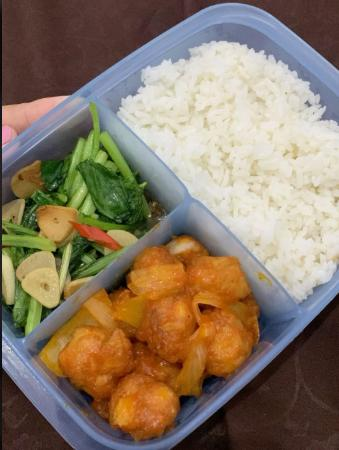buah_sayur_lainnya: (17, 158, 123, 262)
daging: (133, 264, 234, 378)
makanan_berpati: (203, 73, 305, 208)
